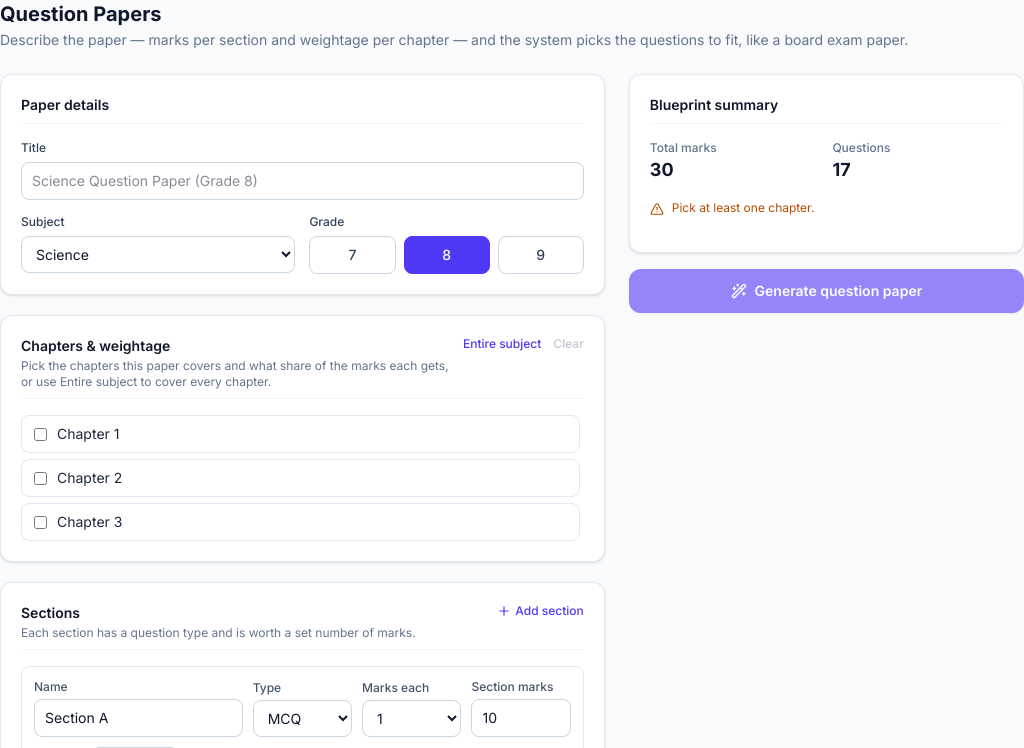
Test case: a paper for the entire subject › names any chapter the plan leaves without a question
Expected: the text "Chapter 3" is shown, 57,512 -> 122,532
Click the button "Entire subject" at (502, 344), box 463,336 -> 541,352
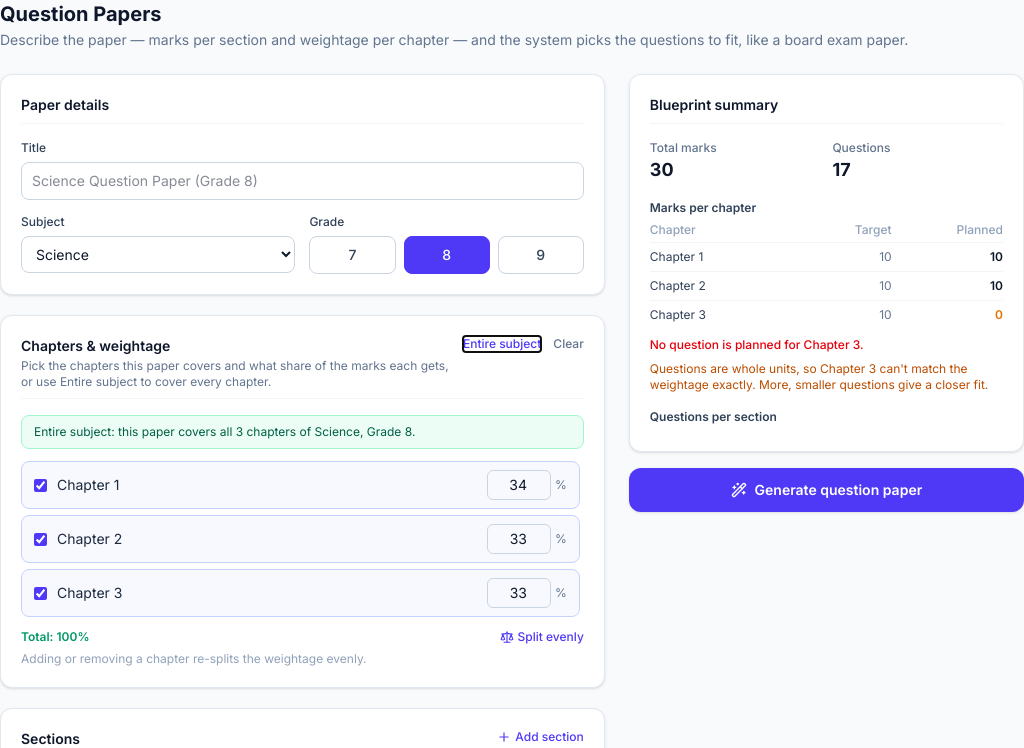
Now the text "No question is planned for Chapter 3." is shown, box 650,337 -> 864,352
